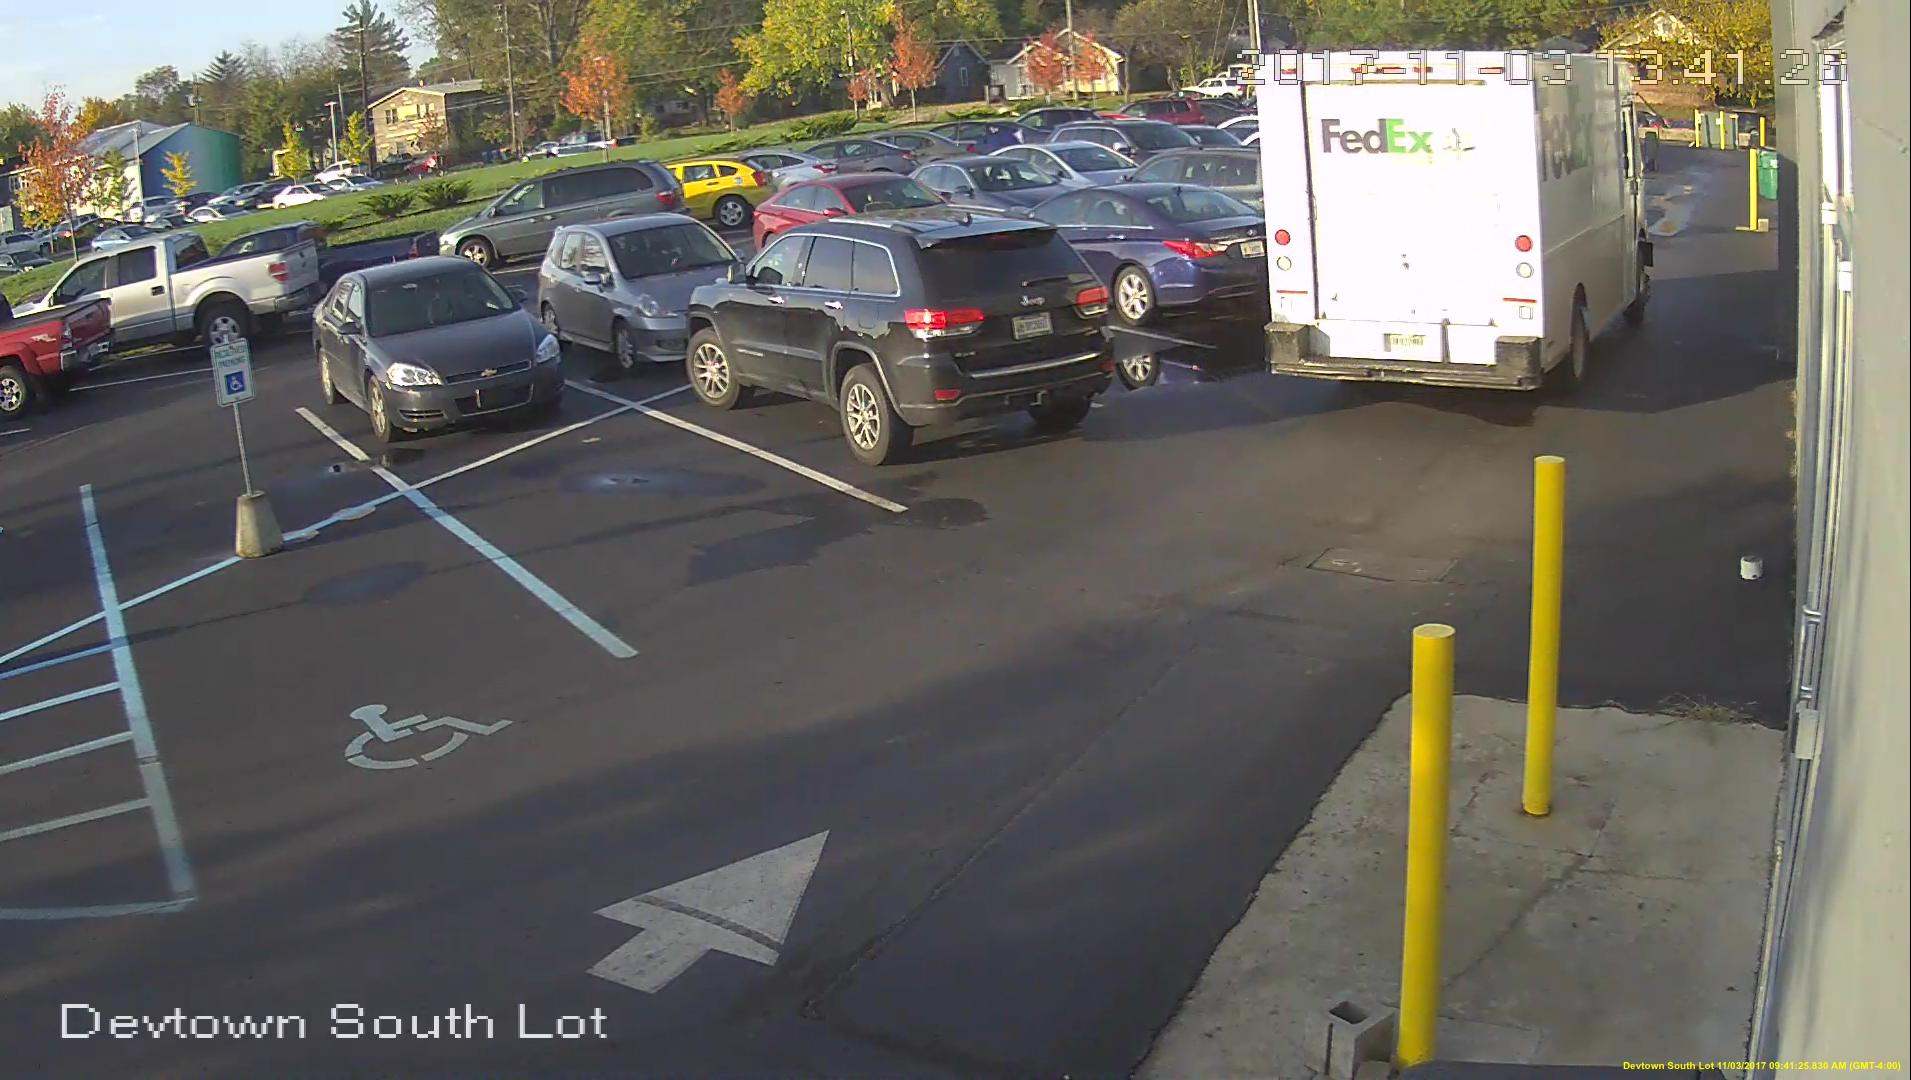fedex_truck: (1247, 45, 1666, 398)
